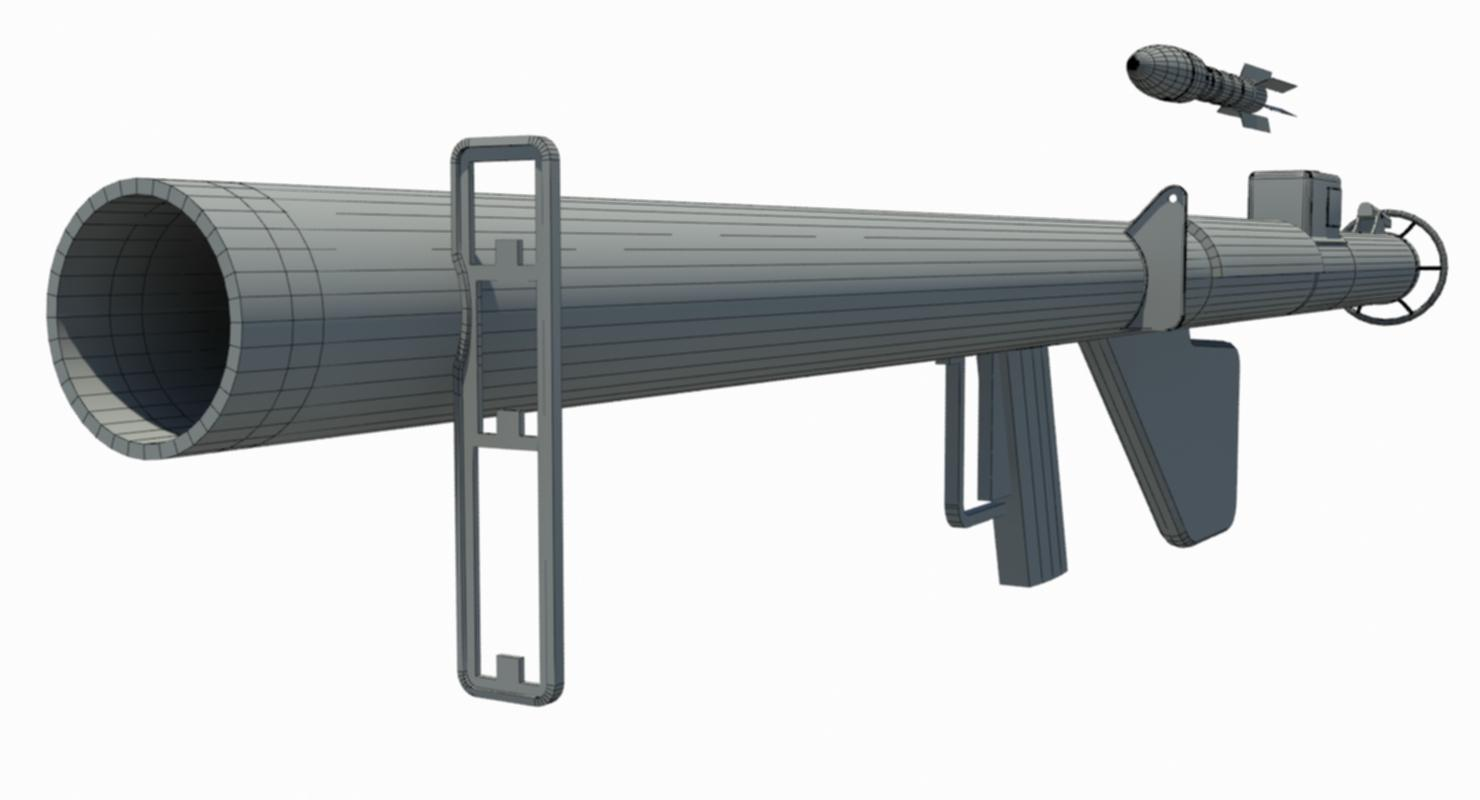Pistol: (43, 132, 1457, 714)
